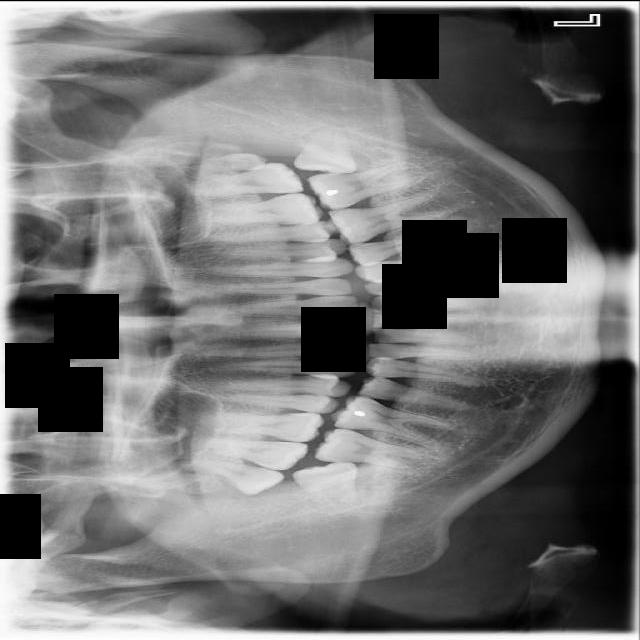3M ESPE Implant: (171, 449, 285, 502)
52: (327, 389, 387, 435), (306, 172, 362, 209)
73: (580, 40, 590, 46)
BioHorizons Implant: (186, 161, 304, 198)
BioLife Implant: (190, 151, 268, 173)
Biomet 3i Implant: (291, 121, 362, 178)
Blue Sky Bio Implant: (306, 157, 426, 213)
Caries: (184, 432, 310, 471)
Implant: (312, 424, 424, 472)
Keystone Dental Implant: (290, 459, 361, 515)
